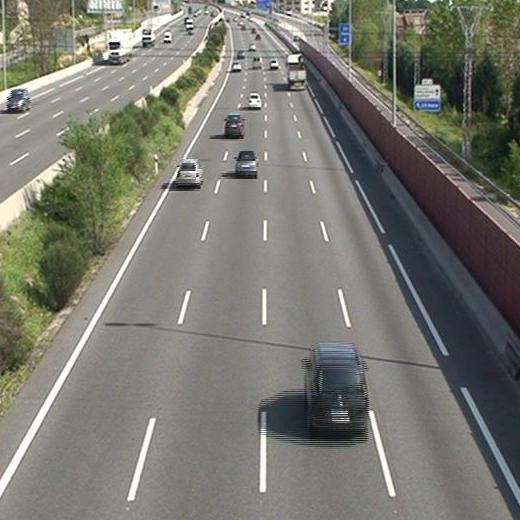car: (305, 344, 368, 434), (177, 158, 202, 184), (234, 150, 258, 175), (225, 113, 245, 135), (247, 92, 263, 108), (231, 60, 242, 71), (269, 58, 279, 69)
truck: (286, 53, 306, 90)
van: (251, 55, 262, 68)
